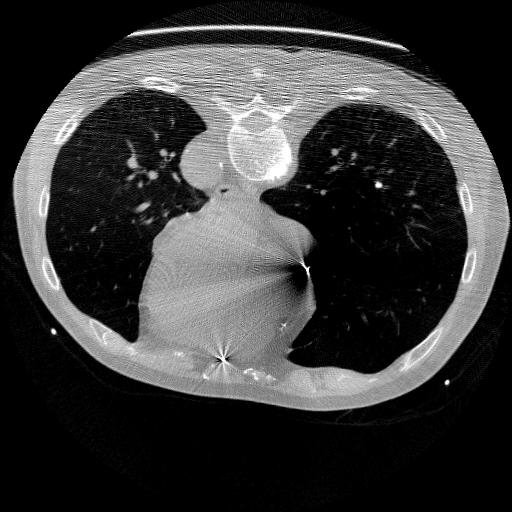nodule: (374, 180, 386, 192)
